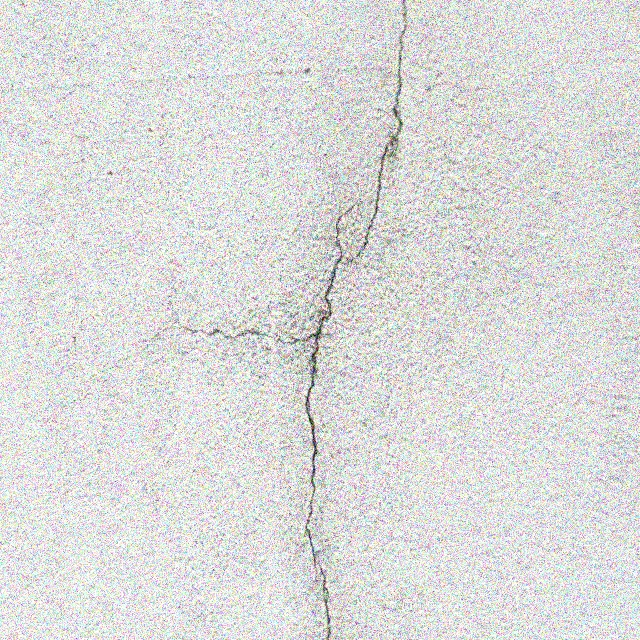SurfaceCrack: (242, 0, 445, 640)
